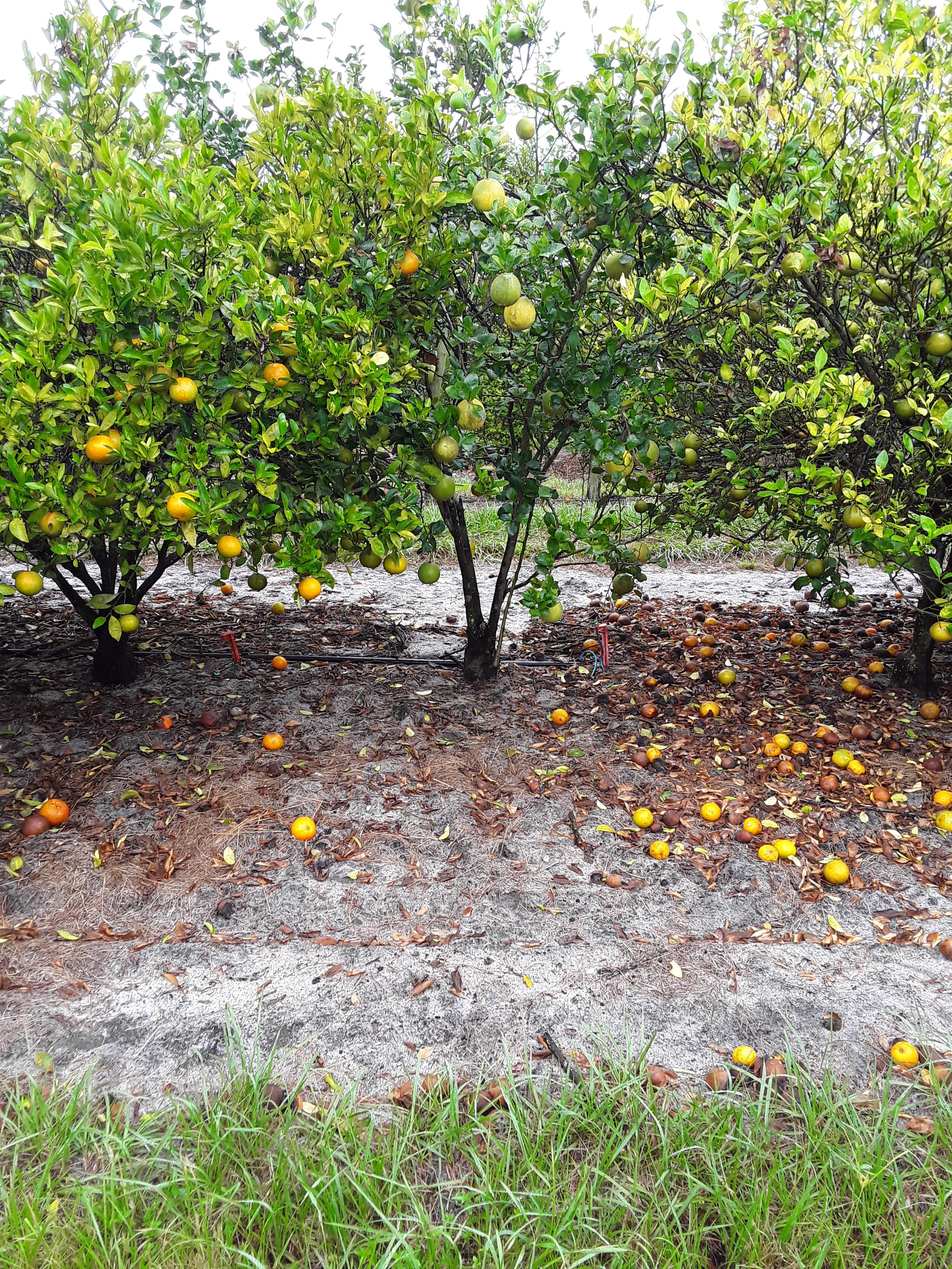fruit_on_ground: (470, 177, 508, 215), (487, 270, 523, 308), (502, 296, 538, 332), (454, 395, 490, 430), (84, 430, 121, 464), (165, 488, 199, 522), (266, 324, 301, 357), (601, 248, 635, 281), (142, 359, 178, 390), (81, 479, 117, 507), (168, 375, 200, 406), (111, 377, 143, 407), (13, 568, 45, 598), (603, 449, 634, 479), (780, 248, 810, 278), (430, 435, 461, 464), (833, 245, 863, 274), (428, 473, 458, 502), (37, 509, 66, 538), (924, 327, 952, 357), (178, 342, 208, 369), (537, 596, 565, 624), (415, 559, 443, 587), (868, 277, 897, 304), (504, 20, 533, 47), (841, 502, 870, 529), (43, 159, 70, 187), (635, 435, 661, 463), (395, 248, 421, 276), (262, 362, 290, 388), (228, 389, 255, 415), (108, 332, 136, 357), (217, 533, 243, 559), (514, 114, 539, 141), (540, 391, 568, 415), (266, 318, 296, 340), (297, 576, 323, 601), (741, 299, 766, 324), (115, 610, 141, 634), (928, 619, 952, 645), (382, 551, 408, 575), (277, 273, 302, 297), (446, 88, 471, 112), (624, 539, 649, 563), (831, 469, 854, 495), (258, 254, 283, 277), (328, 319, 352, 342), (892, 396, 916, 419), (359, 546, 383, 569), (612, 572, 635, 595), (357, 491, 382, 511), (246, 570, 268, 592), (804, 556, 826, 578), (680, 429, 702, 449), (349, 524, 371, 543), (129, 333, 149, 353), (728, 482, 749, 501), (681, 448, 700, 467), (337, 445, 356, 463), (493, 128, 511, 147), (829, 593, 849, 610), (468, 481, 488, 498), (844, 319, 861, 337), (264, 537, 282, 554), (338, 534, 355, 551), (632, 497, 650, 513), (740, 503, 757, 519), (654, 481, 666, 494)
fruit_on_tree: (37, 795, 71, 825), (889, 1039, 921, 1070), (821, 857, 852, 888), (485, 1077, 519, 1105), (19, 813, 51, 840), (289, 814, 318, 843), (423, 1071, 453, 1098), (760, 1055, 789, 1082), (730, 1042, 759, 1068), (646, 1064, 676, 1089), (926, 1060, 952, 1088), (704, 1066, 731, 1092), (630, 804, 655, 830), (471, 1091, 497, 1114), (197, 708, 224, 729), (774, 836, 797, 859), (262, 729, 285, 752), (699, 800, 722, 822), (648, 838, 671, 860), (819, 772, 840, 794), (919, 699, 941, 720), (831, 747, 853, 767), (757, 842, 777, 864), (742, 816, 764, 836), (152, 712, 173, 732), (931, 787, 952, 807), (870, 784, 891, 804), (659, 809, 681, 828), (550, 706, 570, 726), (716, 666, 737, 685), (699, 699, 720, 718), (922, 757, 945, 774), (935, 809, 952, 832), (850, 720, 870, 739), (772, 732, 792, 750), (938, 936, 952, 961), (840, 675, 859, 693), (766, 737, 786, 754), (776, 759, 796, 776), (731, 828, 752, 844), (631, 749, 650, 766), (847, 759, 866, 776), (790, 739, 809, 756), (270, 654, 289, 670), (604, 872, 622, 888), (640, 702, 658, 718), (856, 683, 874, 699), (789, 631, 808, 646), (269, 600, 286, 616), (646, 745, 663, 761), (822, 731, 840, 746), (581, 637, 599, 652), (867, 659, 885, 674), (641, 675, 658, 690), (718, 754, 735, 769), (812, 638, 830, 652), (698, 667, 714, 682), (726, 812, 742, 827), (658, 669, 675, 683), (682, 634, 699, 648), (699, 631, 716, 645), (835, 644, 851, 658), (635, 734, 651, 748), (792, 599, 809, 612), (802, 588, 817, 602), (702, 615, 718, 628), (698, 644, 714, 657), (870, 727, 884, 741), (220, 580, 234, 594), (605, 611, 620, 624), (735, 618, 750, 631), (778, 617, 794, 629), (887, 643, 901, 656), (444, 611, 458, 624), (859, 601, 874, 613), (860, 627, 876, 638), (877, 617, 891, 629), (615, 596, 629, 608), (456, 624, 469, 636), (618, 613, 632, 624), (700, 600, 714, 611), (588, 597, 601, 608), (765, 630, 778, 641), (892, 589, 905, 600)
